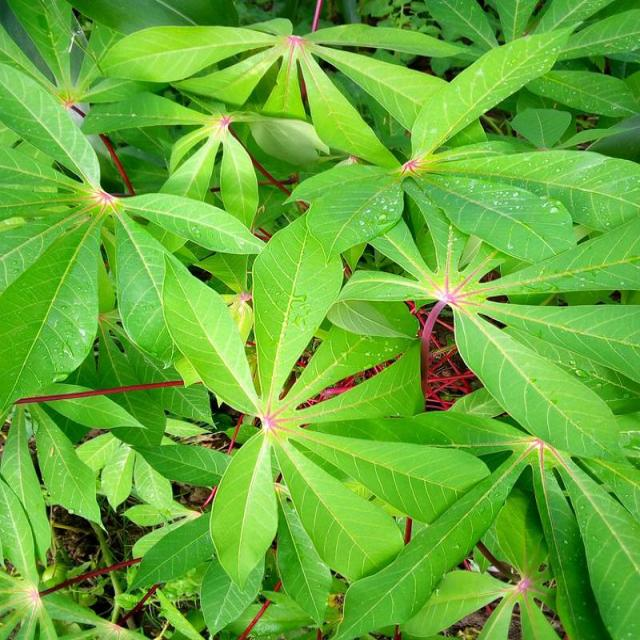cassava leaf: (0, 1, 638, 639)
